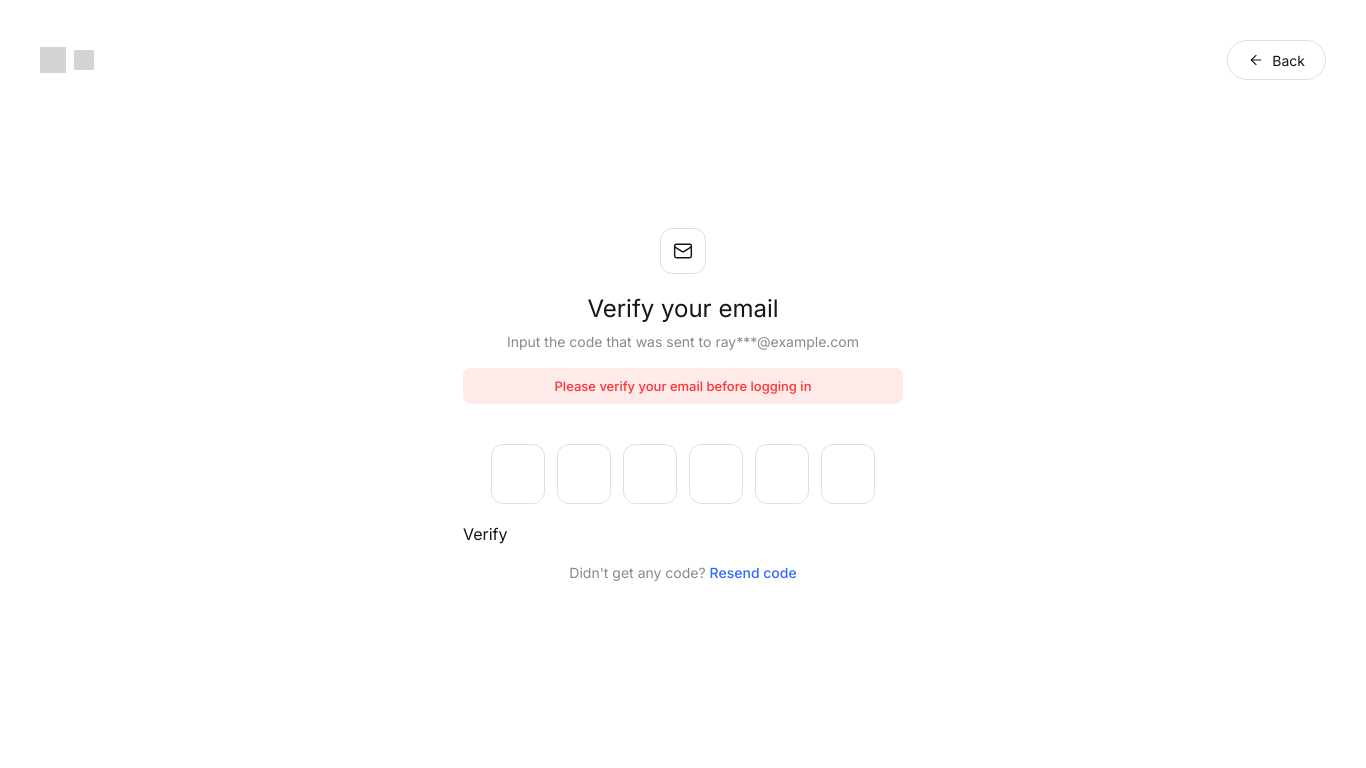
Test: VerifyEmail › offers an immediate resend when arriving from a refused login
Expected: the text "Please verify your email before logging in" is shown, [463,368,903,404]
What coordinates should you click on to do the following:
click the button "Resend code"
I would click on:
 (753, 572)
Its box is [710,564,797,580].
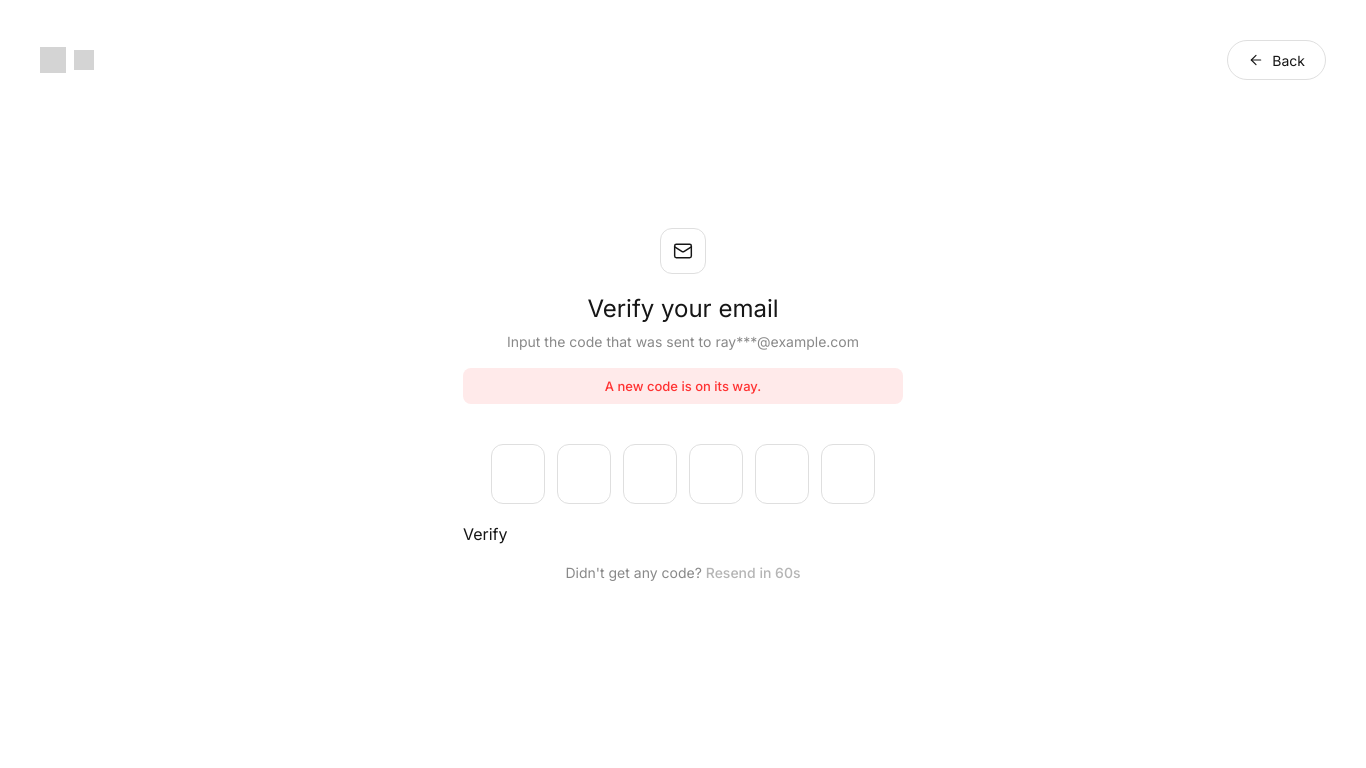
Expected: the text "A new code is on its way." is shown, [463,368,903,404]
